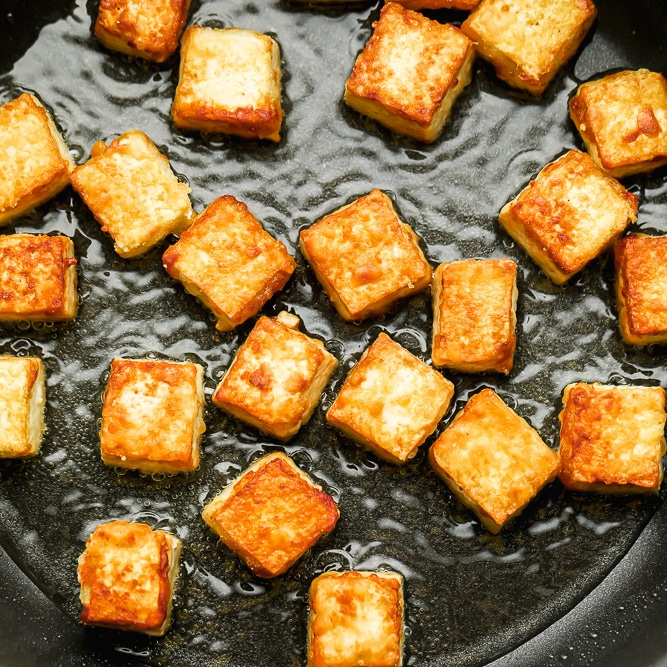Tahu: (285, 174, 422, 356), (316, 20, 486, 159), (155, 5, 299, 147), (405, 390, 567, 513), (488, 144, 655, 262), (203, 442, 358, 568), (174, 169, 293, 331), (274, 552, 433, 667), (81, 345, 212, 474), (560, 365, 663, 524), (312, 339, 453, 455), (88, 121, 185, 286), (1, 84, 93, 224), (421, 265, 527, 385), (558, 76, 667, 188), (1, 221, 108, 326), (99, 509, 196, 611), (1, 359, 91, 443)
